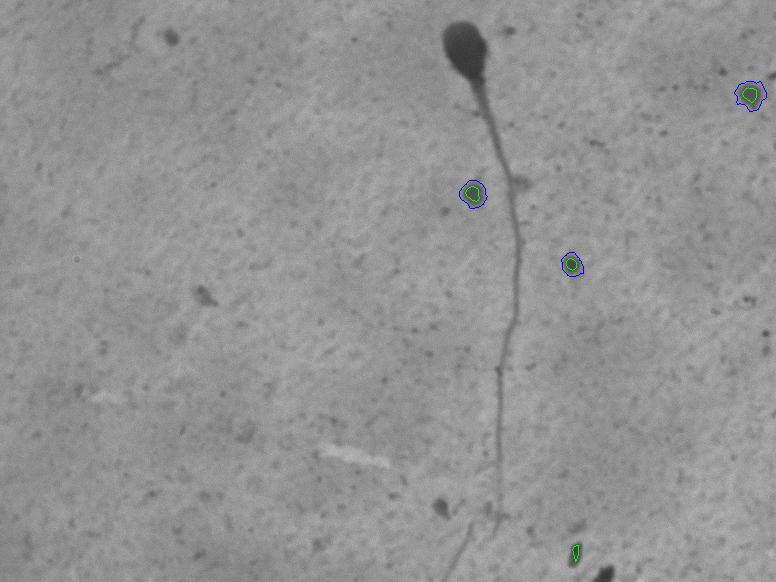Normal: (411, 17, 572, 518)
